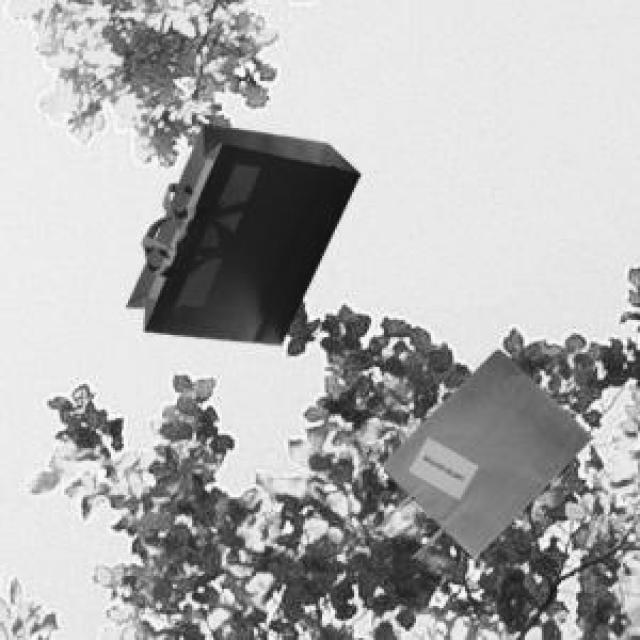paper: (122, 120, 356, 341), (378, 346, 589, 553)
